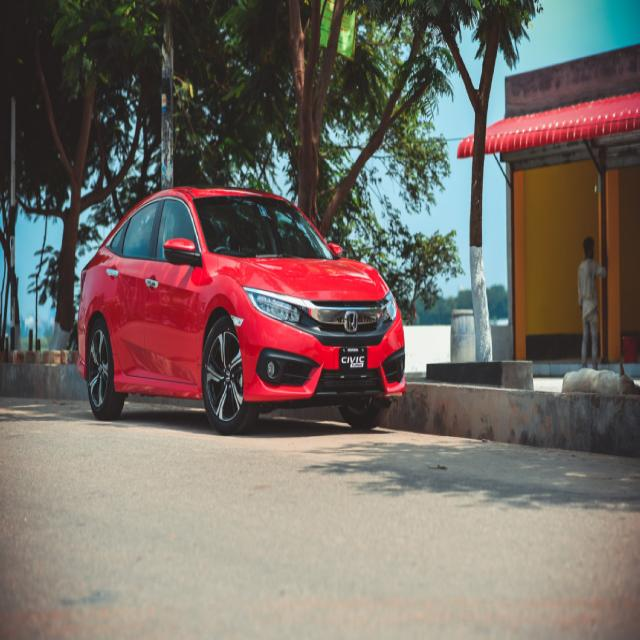red: (59, 158, 417, 439)
